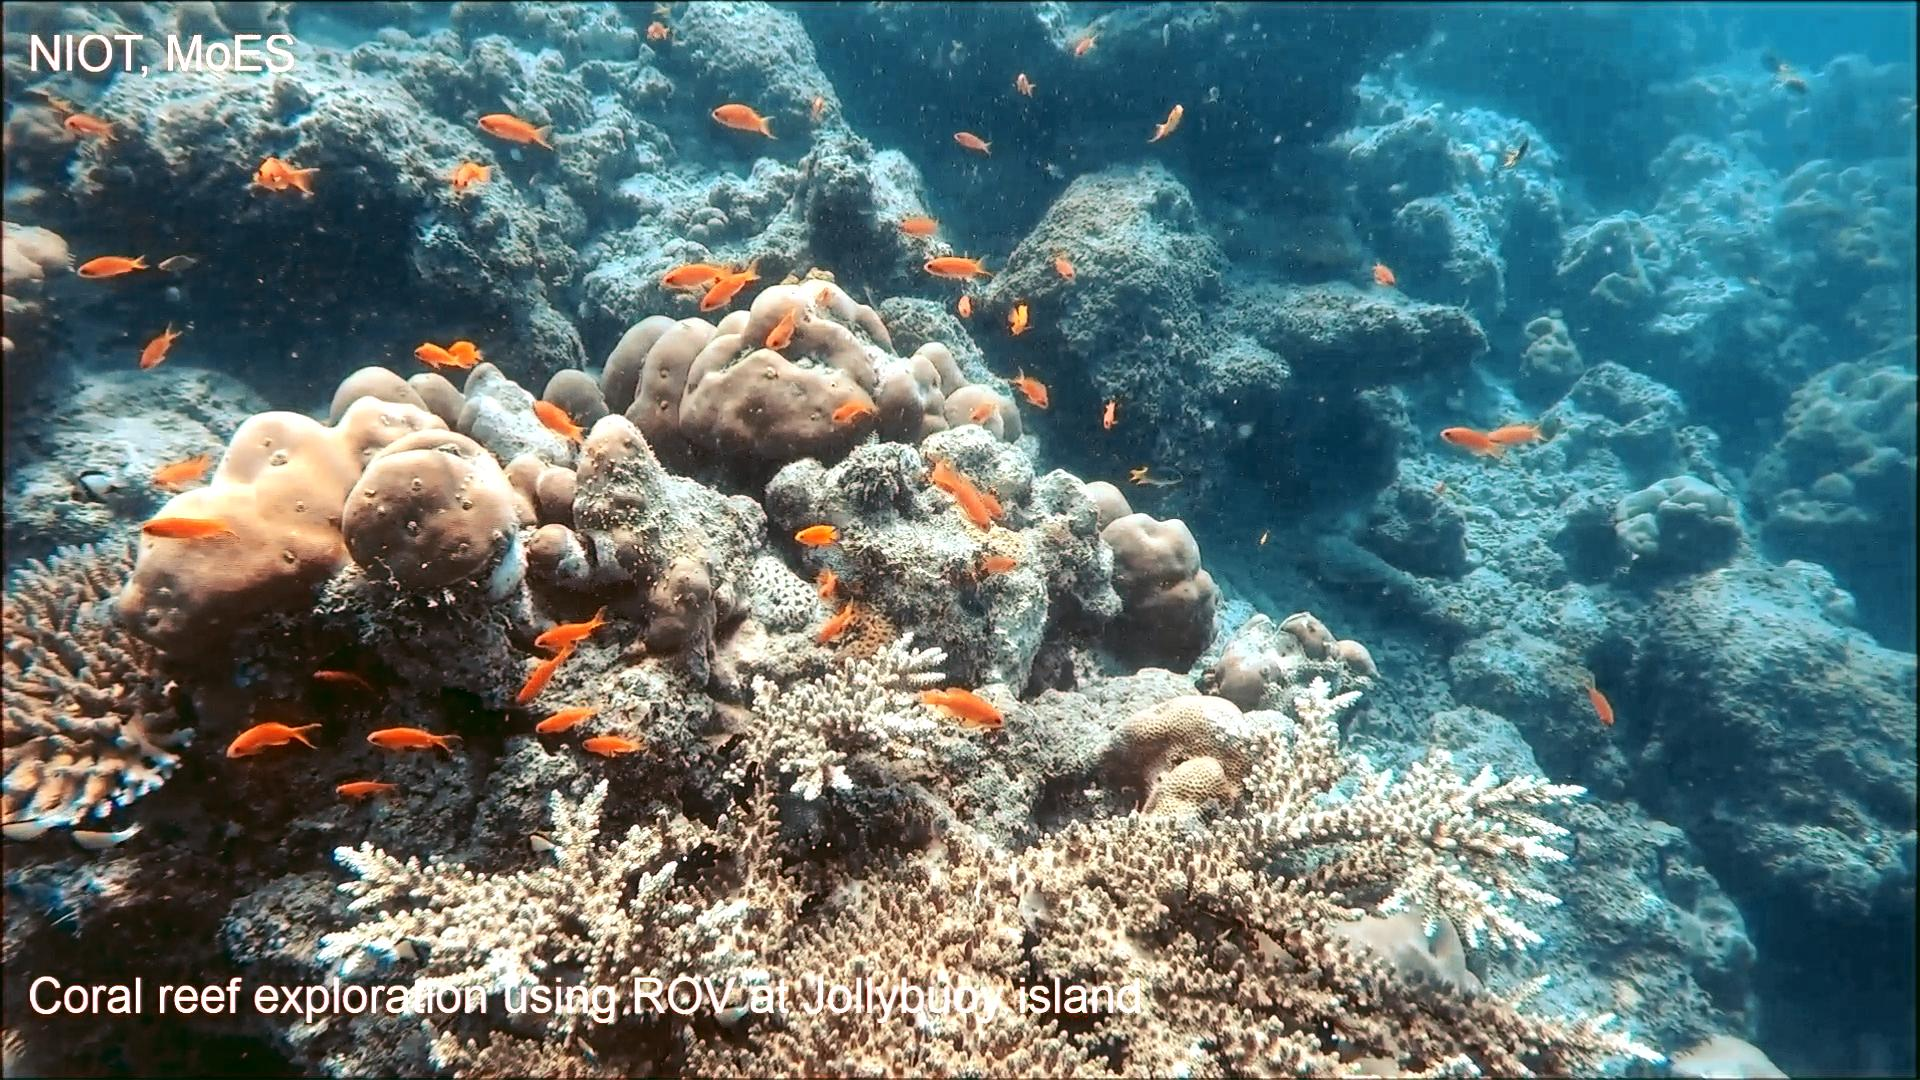Porites-Porites pukoensis: (102, 351, 525, 682), (592, 266, 1013, 479)
